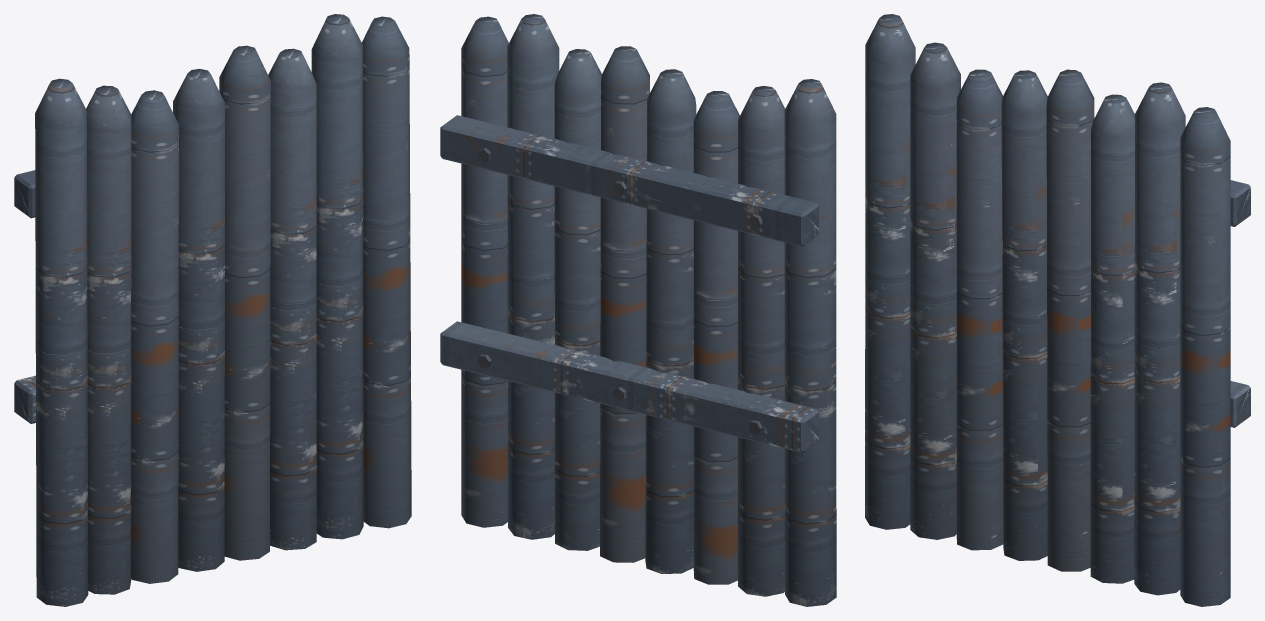
Rendered from sur_duvari.glb.
3 renders of one model, left to right at view 1: azimuth 30°, elevation 25°; view 2: azimuth 150°, elevation 25°; view 3: azimuth 330°, elevation 25°, orthographic. The views are drawn at different scales.
Visible parts, largest first — view 1: sur_duvari; view 2: sur_duvari; view 3: sur_duvari.
Boxes of the visible parts, bbox=[...] form: sur_duvari: bbox=[14, 14, 411, 606]; sur_duvari: bbox=[440, 14, 836, 606]; sur_duvari: bbox=[865, 14, 1250, 606].
Bounding box in the file's own units: 2.98 × 3.98 × 0.6102.
1 material, 1 textured.
